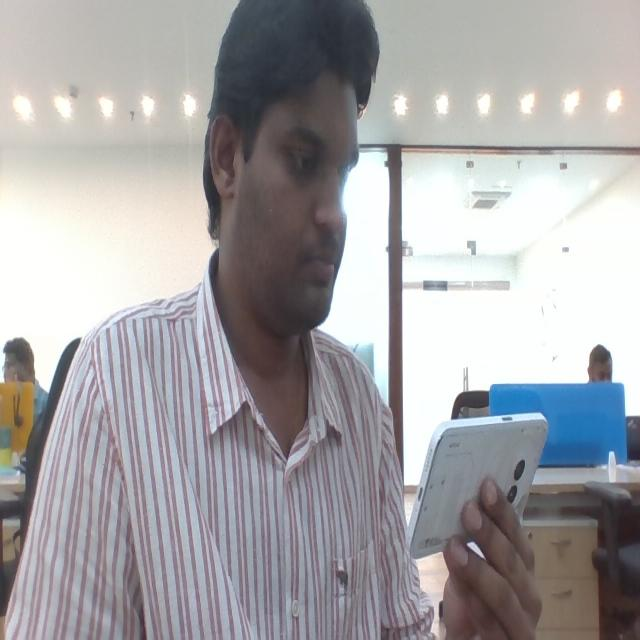phone: (409, 413, 549, 558)
